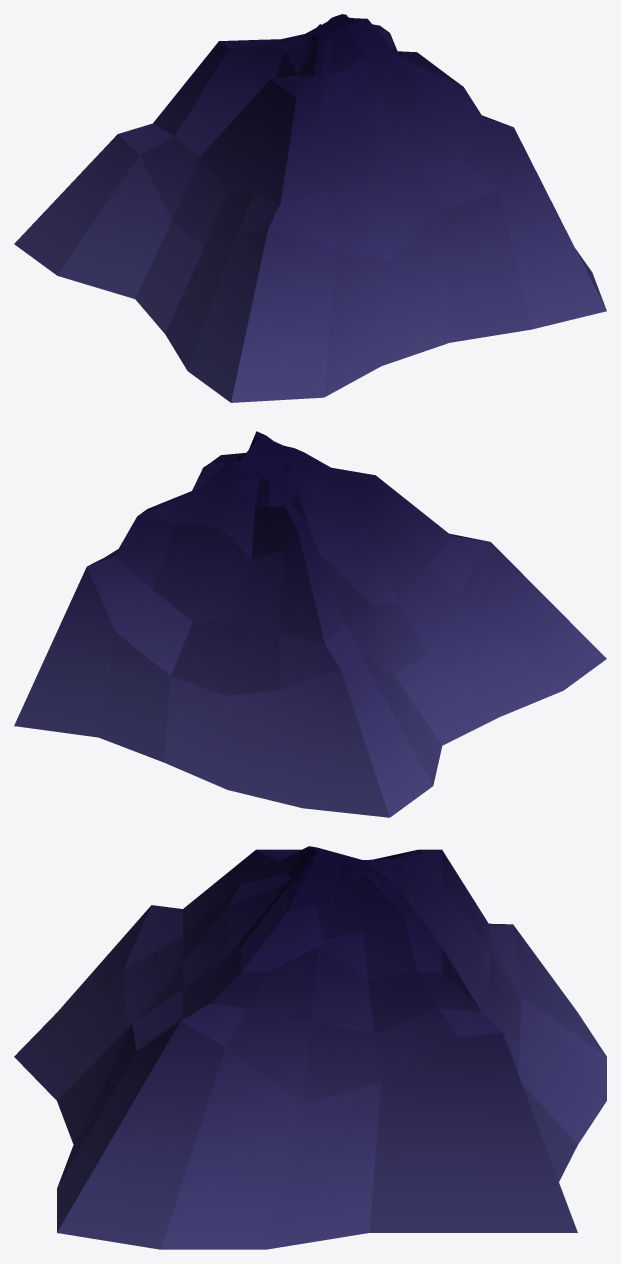
The model's file is MOD_Mountain1.fbx.
3 views of the same model, one above another, from view 1: azimuth 30°, elevation 25°; view 2: azimuth 150°, elevation 25°; view 3: azimuth 270°, elevation 25° (orthographic). The views are drawn at different scales.
Parts seen in each view (by area): view 1: MOD_Berg1; view 2: MOD_Berg1; view 3: MOD_Berg1.
Boxes of the visible parts, <box> form: MOD_Berg1: <box>14,14,606,402</box>; MOD_Berg1: <box>14,431,606,817</box>; MOD_Berg1: <box>14,846,606,1249</box>.
Size of the model in its own units: 24.61 by 14.33 by 26.01.
Materials: 1 (1 with a texture image).
